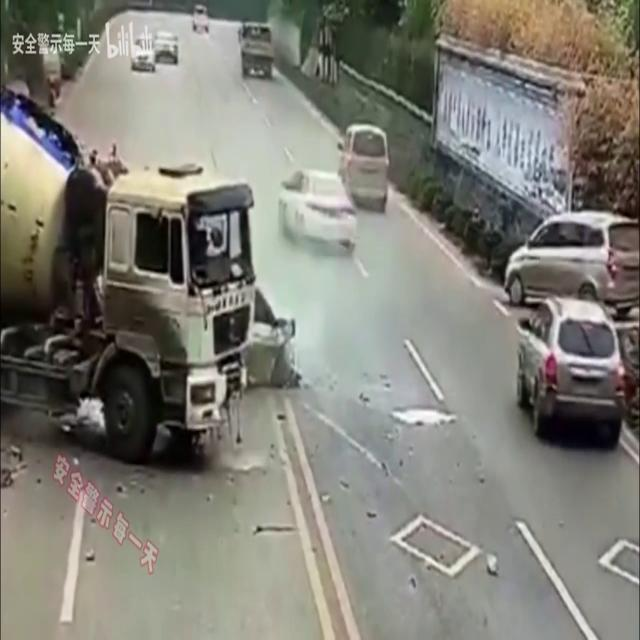accident: (1, 83, 305, 473)
non-accident: (500, 209, 640, 456), (278, 120, 390, 256), (128, 28, 182, 74)
